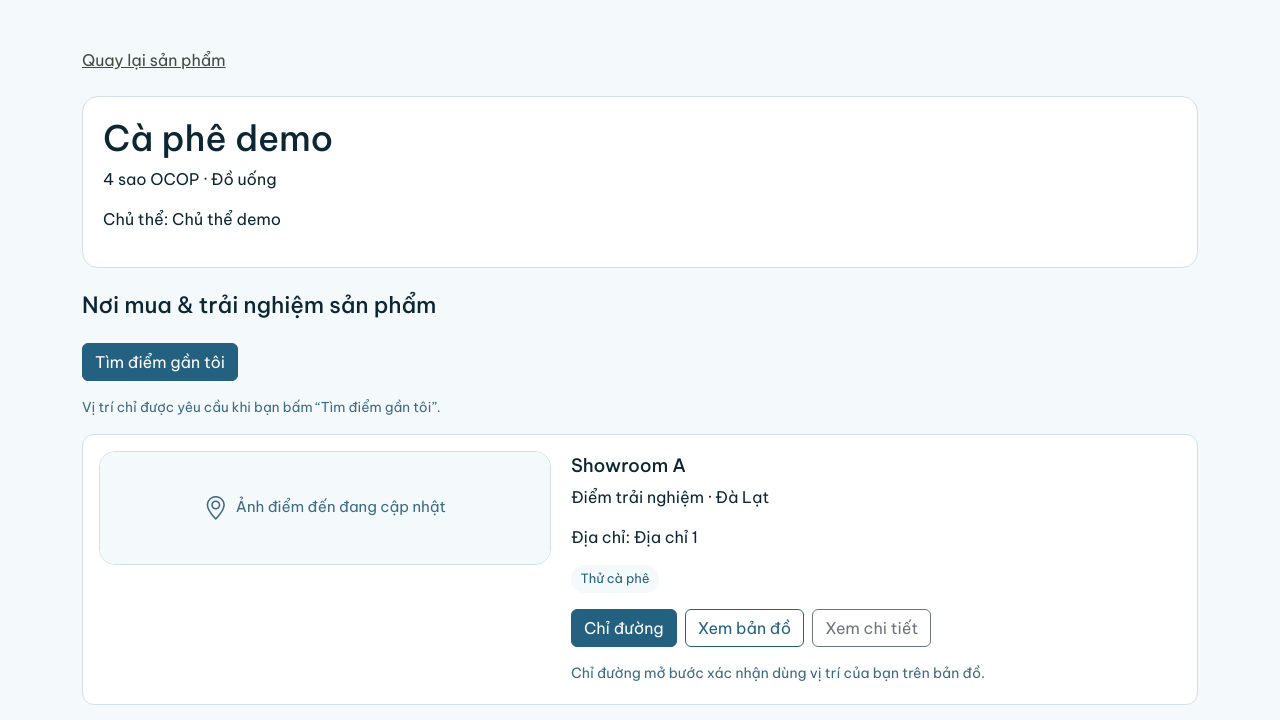
Product Experience Finder › intersects Nearby by id/slug, sorts distances, keeps unmatched relations last
The width and height of the screenshot is (1280, 720).
Click the button with test id "locate": (160, 362) left=82, top=343, right=238, bottom=381
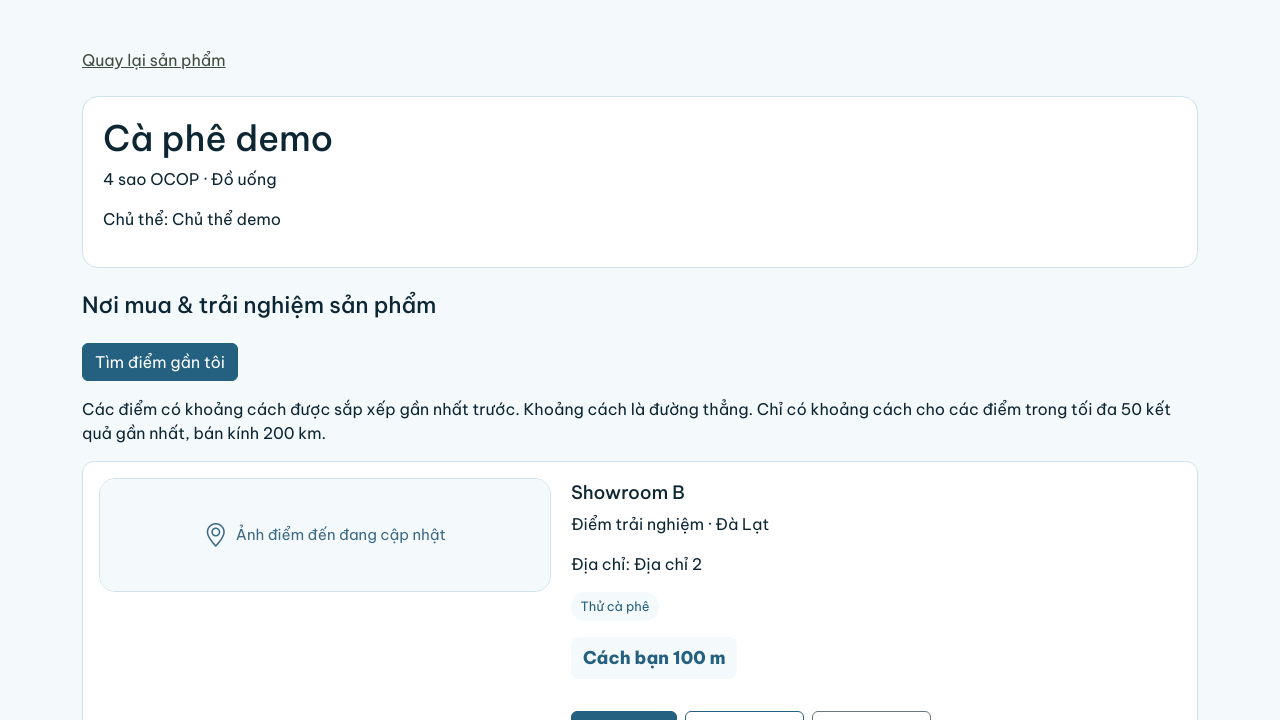
Now the text "100 m" is shown, box left=583, top=646, right=726, bottom=669
